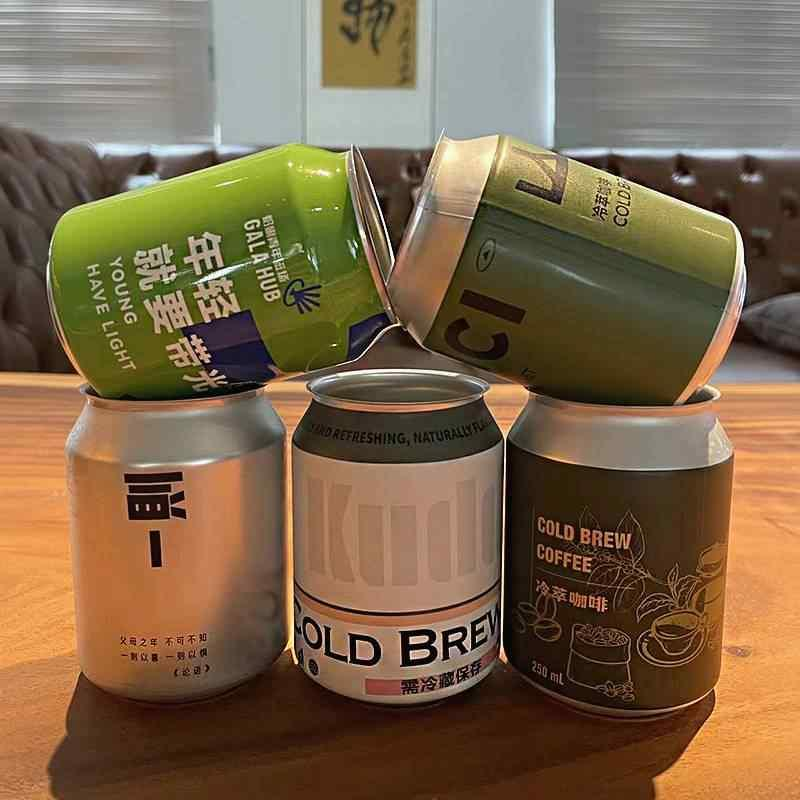metal: (66, 374, 736, 720), (399, 120, 756, 404), (44, 144, 399, 390)
